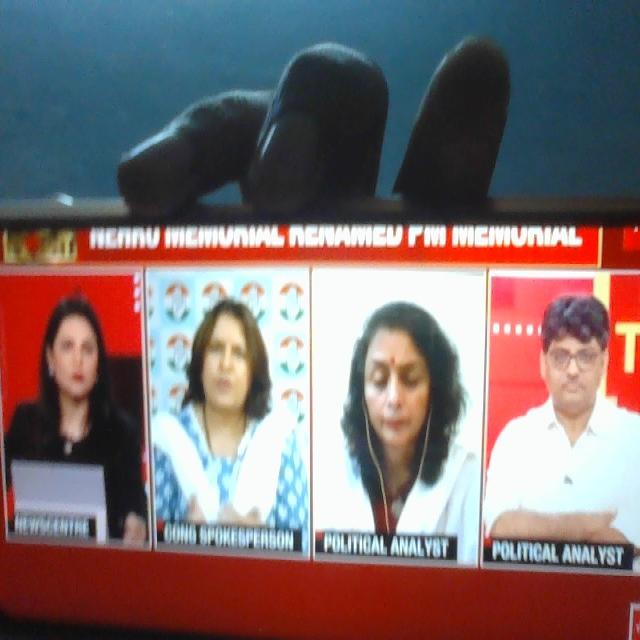fake: (338, 288, 447, 493)
